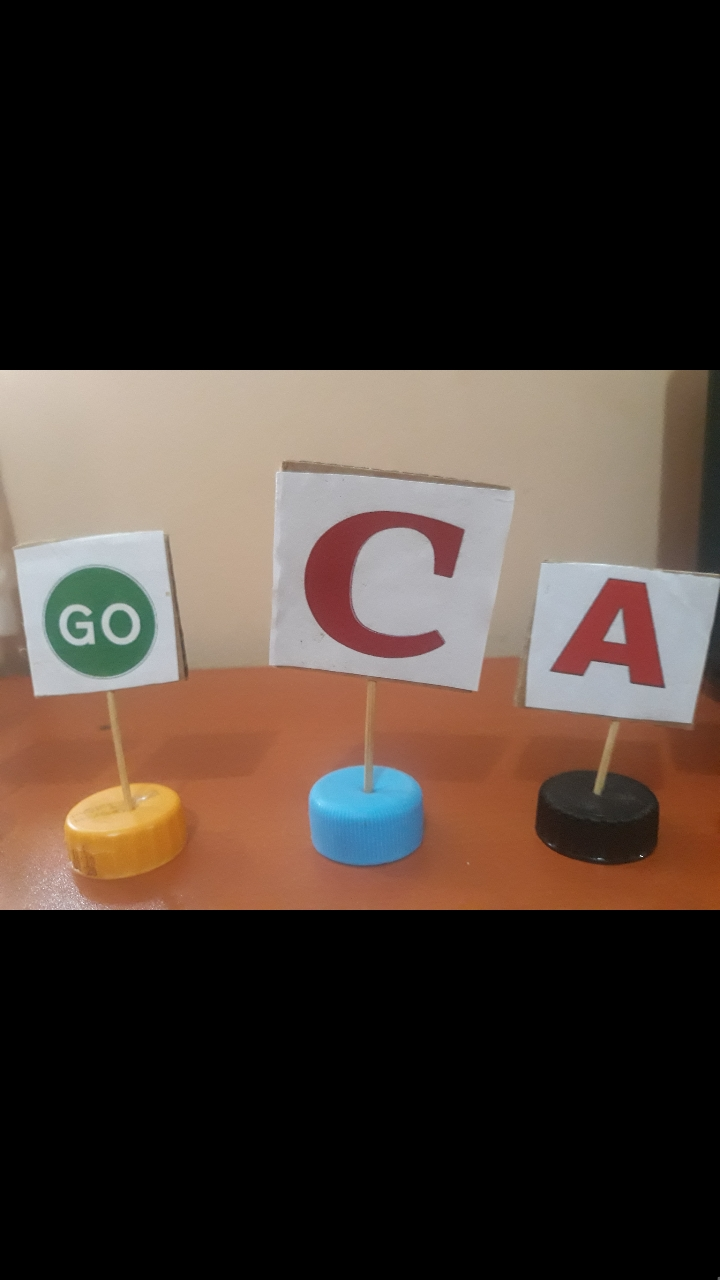go: (20, 541, 173, 694)
zone A: (544, 568, 683, 721)
zone C: (287, 482, 483, 688)
